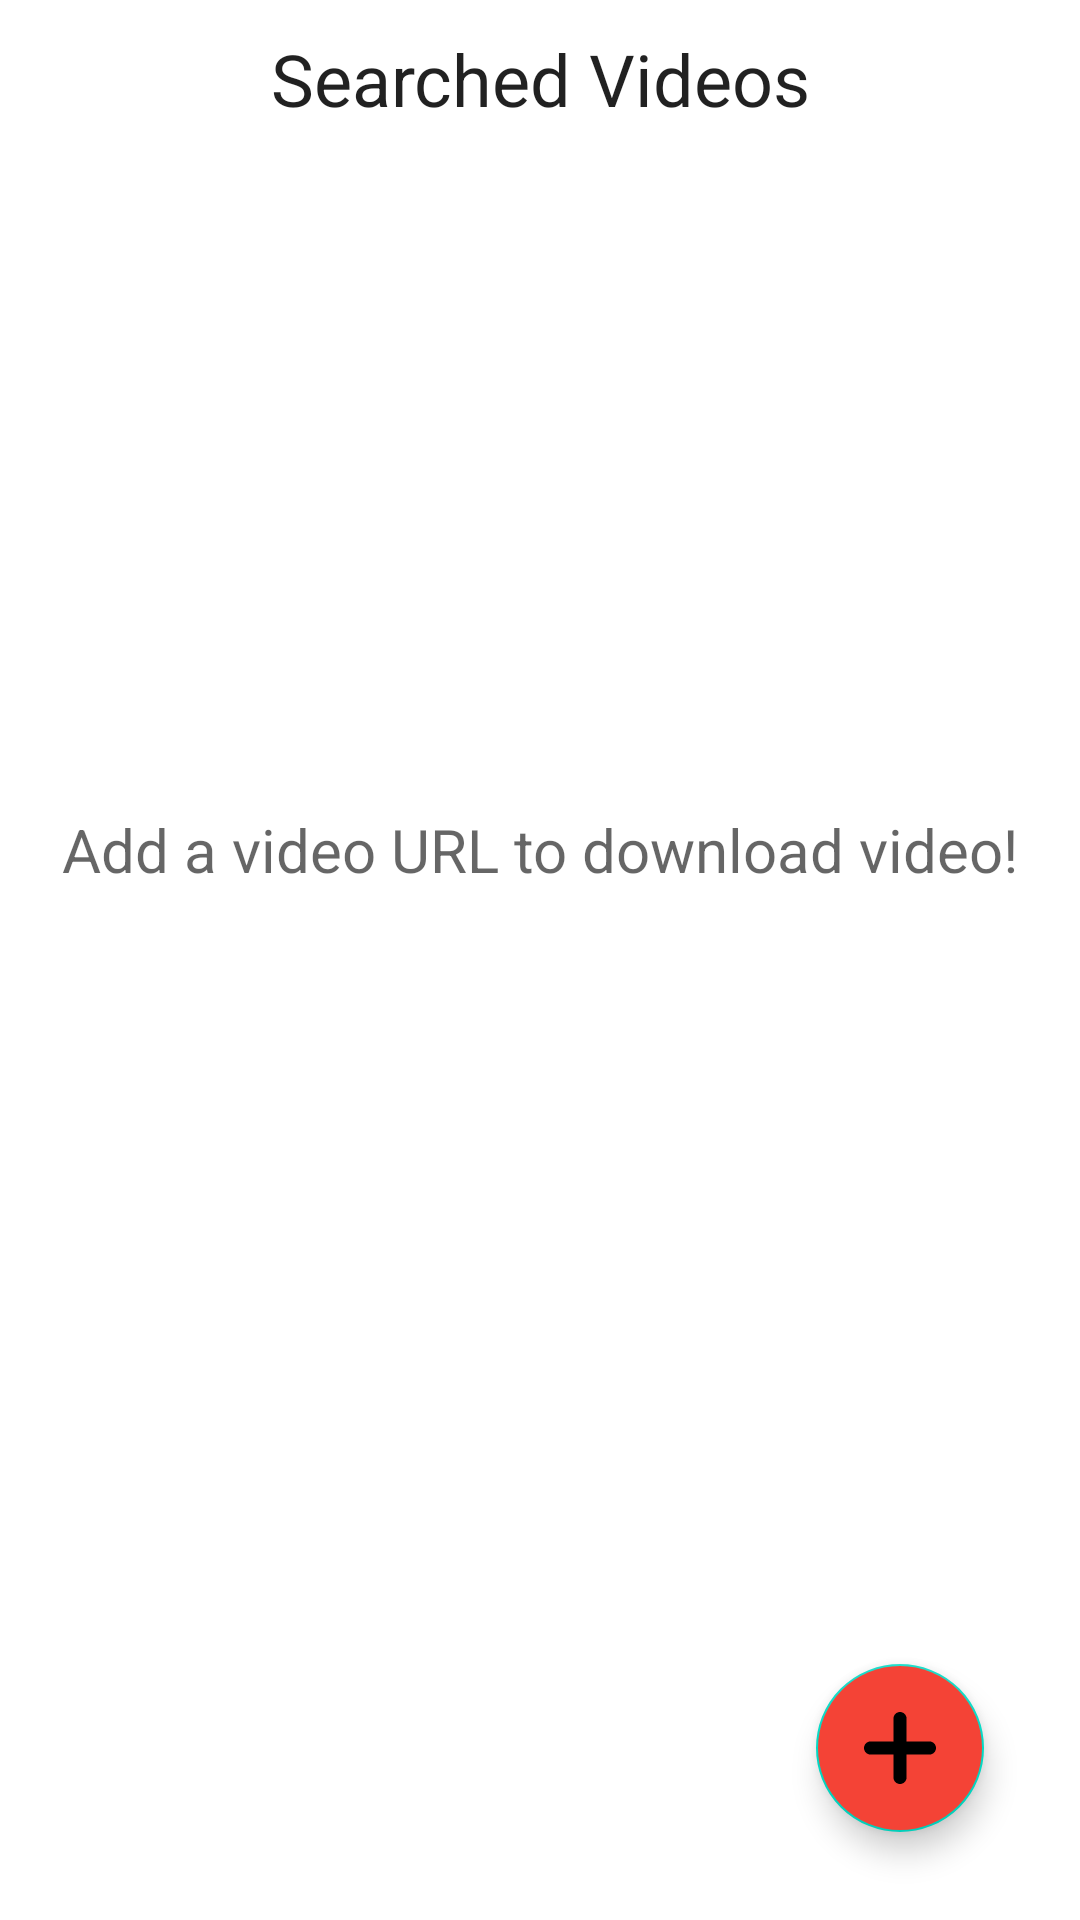

Named icons in this screenshot (1080w x 1920h) and their centers, (x=x, y=y):
plus: (x=900, y=1748)
